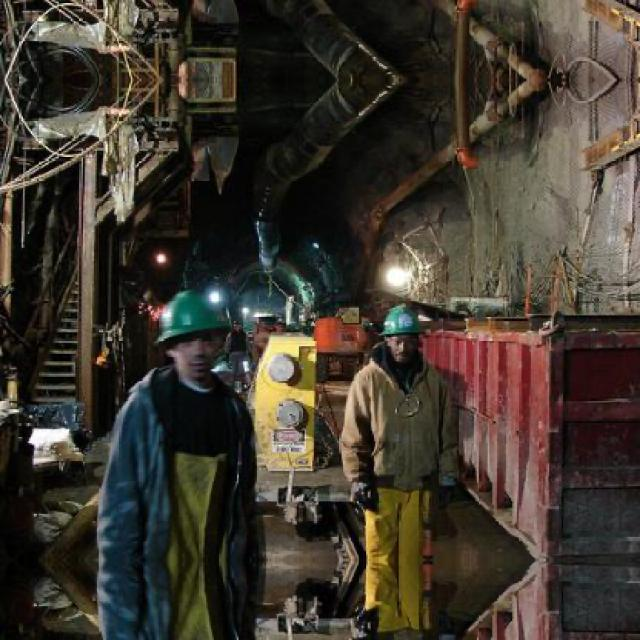helmet: (146, 280, 243, 389), (372, 299, 430, 366)
